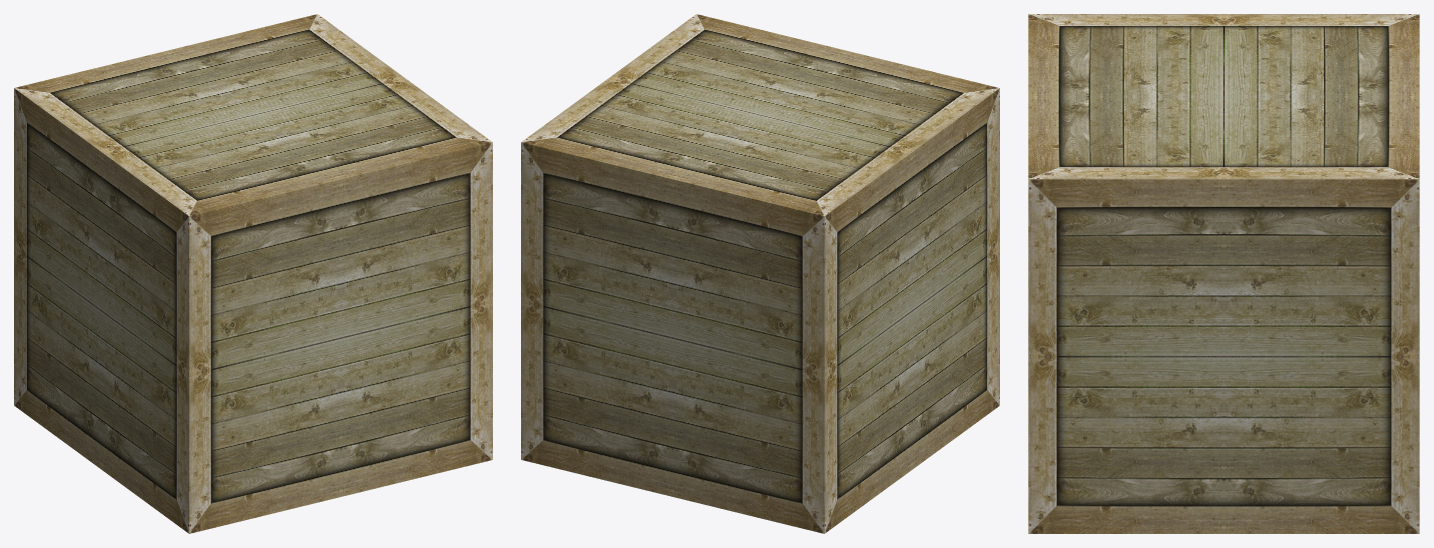
Rendered from bigCrate.fbx.
The picture shows the model from 3 angles, left to right: view 1: azimuth 30°, elevation 25°; view 2: azimuth 150°, elevation 25°; view 3: azimuth 270°, elevation 25°; orthographic projection. The views are drawn at different scales.
Parts seen in each view (by area): view 1: polySurface917; view 2: polySurface917; view 3: polySurface917.
Boxes of the visible parts, left/top/right/bottom form: polySurface917: left=14, top=14, right=492, bottom=533; polySurface917: left=521, top=14, right=999, bottom=533; polySurface917: left=1028, top=14, right=1419, bottom=533.
Size of the model in its own units: 0.7609 by 0.7605 by 0.7609.
